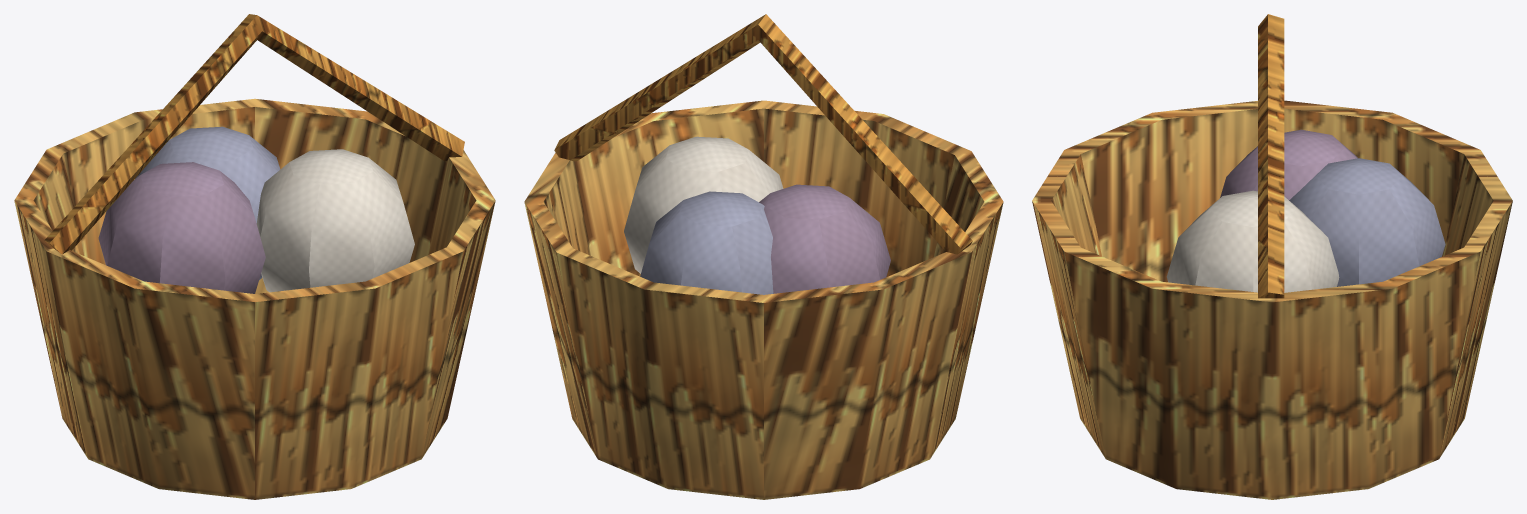
Rendered from basket.gltf.
3 renders of one model, left to right at view 1: azimuth 30°, elevation 25°; view 2: azimuth 150°, elevation 25°; view 3: azimuth 270°, elevation 25°, orthographic.
Parts seen in each view (by area): view 1: basket_mesh; view 2: basket_mesh; view 3: basket_mesh.
Part boxes in pixels (x1,y1,x2,y2): basket_mesh: (14, 14, 495, 499); basket_mesh: (524, 14, 1003, 499); basket_mesh: (1032, 14, 1512, 499).
Size of the model in its own units: 0.5 by 0.4643 by 0.5.
5 materials, 5 textured.
